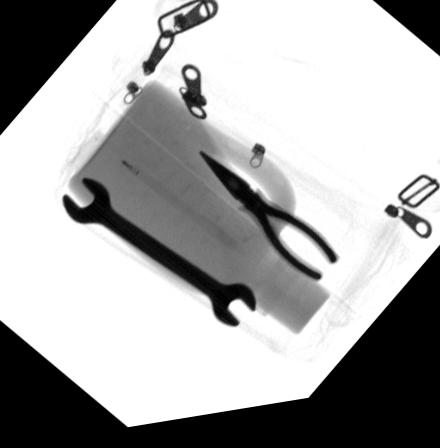Pliers: (195, 153, 338, 291)
Wrench: (62, 179, 256, 335)
